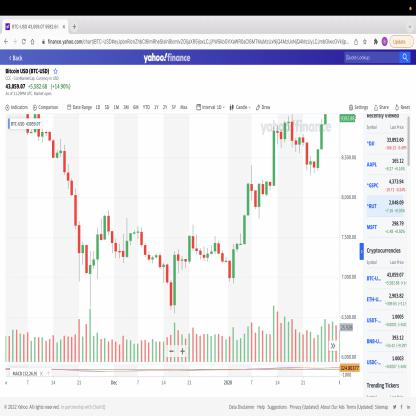Bearish: Evening Star Doji: (283, 113, 294, 150)
Bearish: Tweezer Top: (102, 208, 110, 242)
Bullish: Tweezer Bottom: (169, 250, 177, 316), (253, 181, 261, 220), (228, 242, 235, 286)
